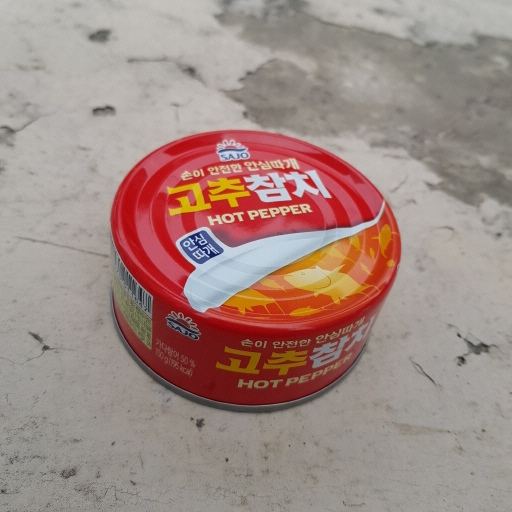Metal_1: (103, 123, 405, 411)
